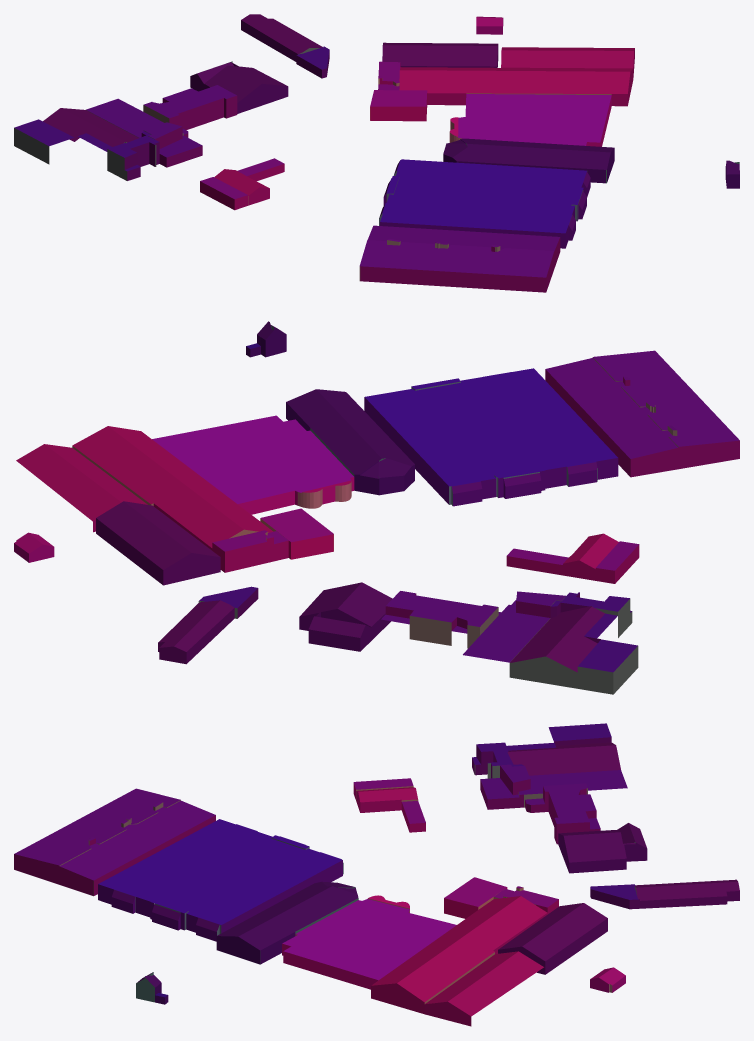
Rendered from buildings_11_6.glb.
3 renders of one model, top to bottom at view 1: azimuth 30°, elevation 25°; view 2: azimuth 150°, elevation 25°; view 3: azimuth 270°, elevation 25°, orthographic. The views are drawn at different scales.
Parts seen in each view (by area): view 1: buildings_11_6; view 2: buildings_11_6; view 3: buildings_11_6.
Boxes of the visible parts, bbox=[...] form: buildings_11_6: bbox=[14, 14, 739, 292]; buildings_11_6: bbox=[14, 321, 739, 694]; buildings_11_6: bbox=[14, 723, 739, 1026].
Bounding box in the file's own units: 241 × 9.47 × 260.
